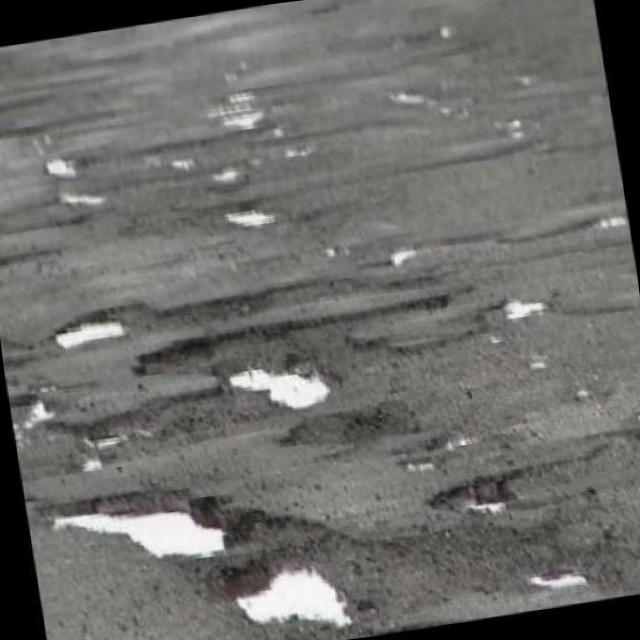Pothole: (38, 488, 269, 557), (206, 547, 360, 630), (226, 354, 342, 413), (426, 476, 520, 517), (53, 321, 130, 349)
